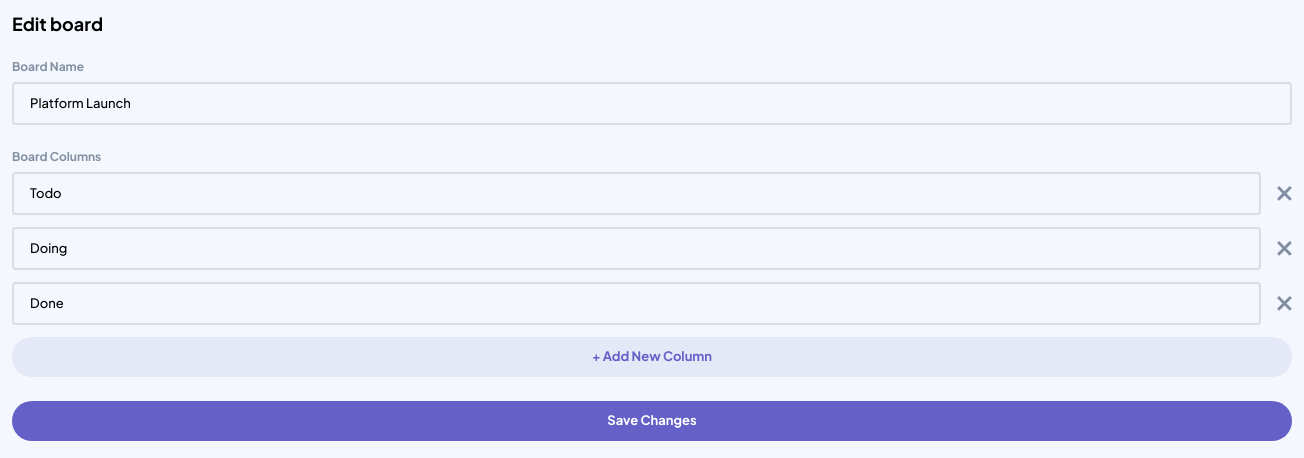
it: Given an <EditBoardForm /> component › When it renders › It should alert 'Can't be empty' when the board name input is empty
This screenshot has width=1304, height=458.
Clear the field named "board name" at (652, 104), box [12, 82, 1292, 125]
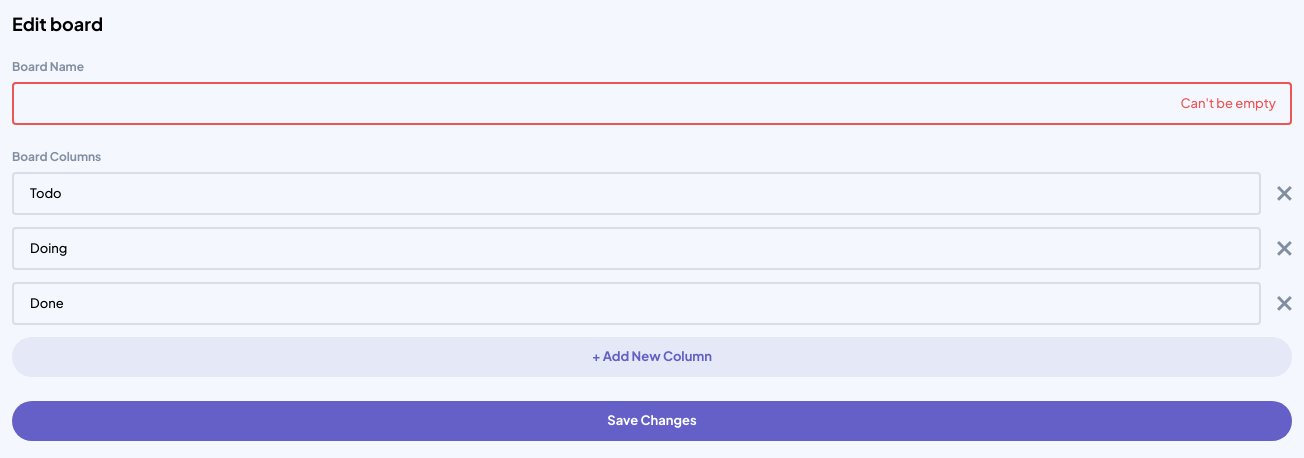
Now the message "Can't be empty" is shown, box [1180, 94, 1276, 113]
